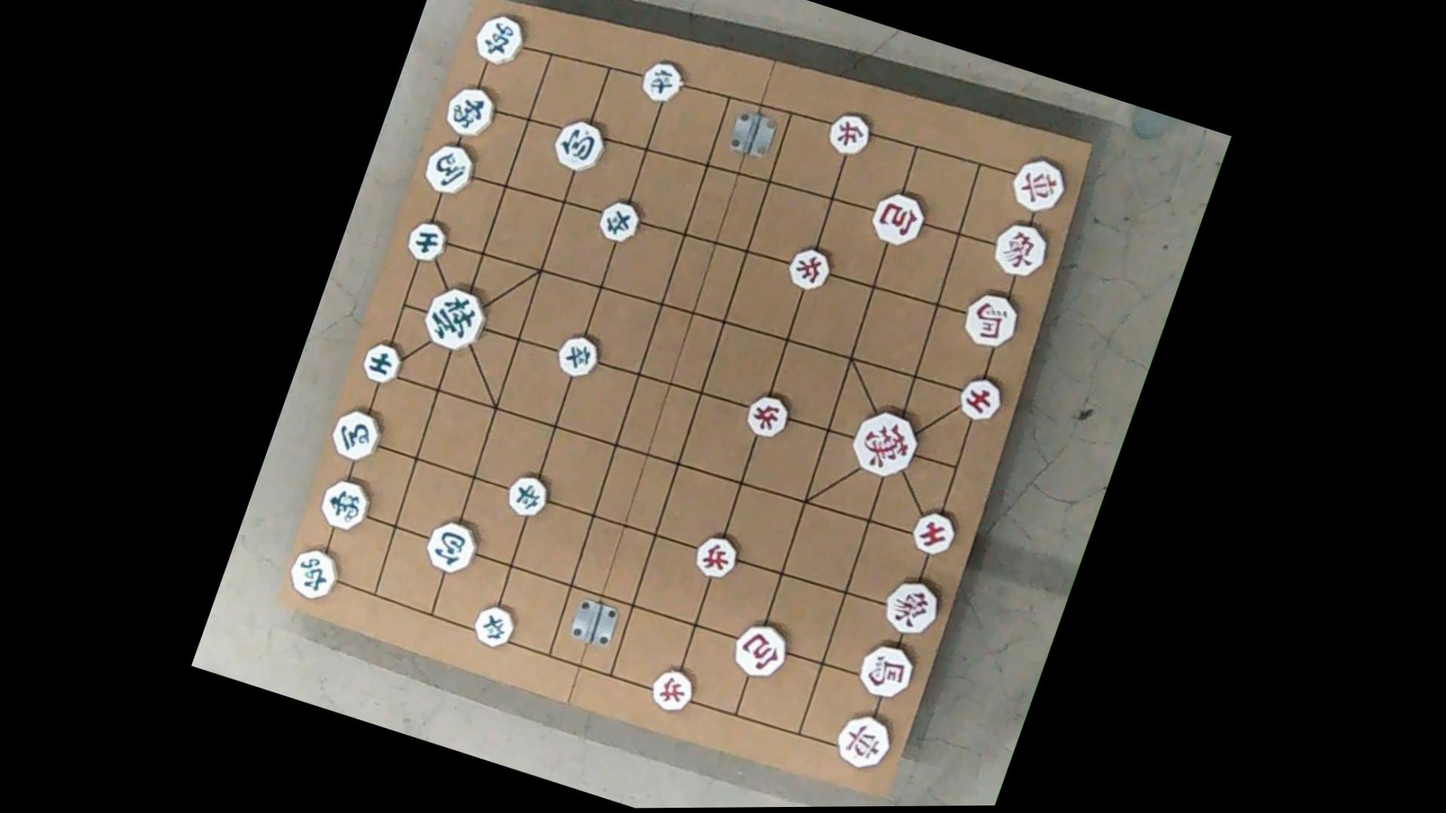cha_green: (281, 541, 346, 604), (467, 8, 532, 71)
cha_red: (833, 708, 897, 776), (1009, 153, 1072, 219)
jol_green: (553, 328, 605, 383), (638, 56, 688, 109), (505, 472, 553, 525), (595, 196, 643, 248), (471, 599, 518, 650)
jol_red: (743, 388, 792, 443), (825, 107, 875, 160), (693, 530, 743, 583), (648, 664, 697, 718), (787, 241, 834, 292)
ma_green: (327, 402, 385, 466), (422, 138, 479, 199)
ma_red: (857, 632, 923, 702), (963, 286, 1026, 353)
po_green: (423, 517, 483, 581), (551, 114, 610, 177)
po_red: (731, 617, 794, 684), (869, 186, 929, 250)
sa_green: (405, 215, 452, 265), (362, 338, 408, 388)
sa_red: (953, 372, 1008, 428), (908, 507, 958, 561)
sang_green: (444, 78, 503, 142), (317, 473, 376, 536)
sang_red: (877, 574, 945, 641), (991, 215, 1057, 283)
wang_green: (420, 280, 493, 355)
wang_red: (850, 403, 925, 483)
